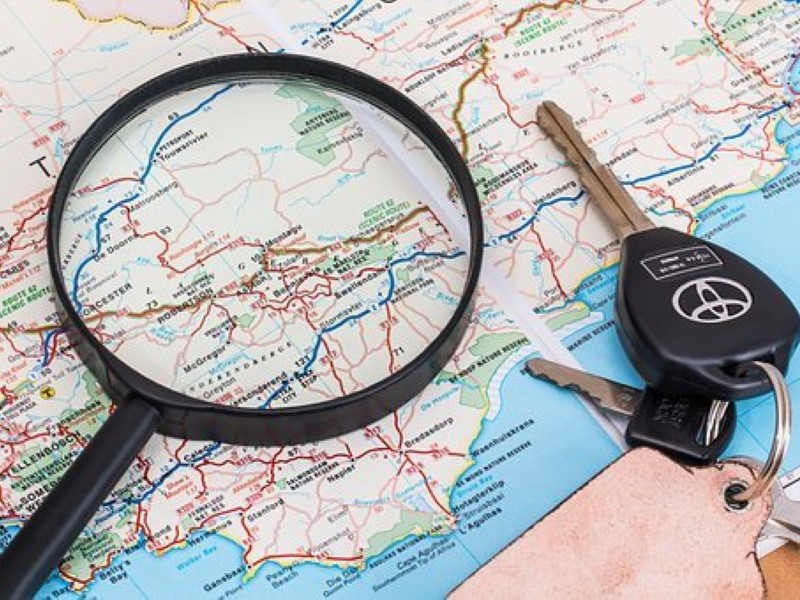key: (501, 89, 798, 467)
